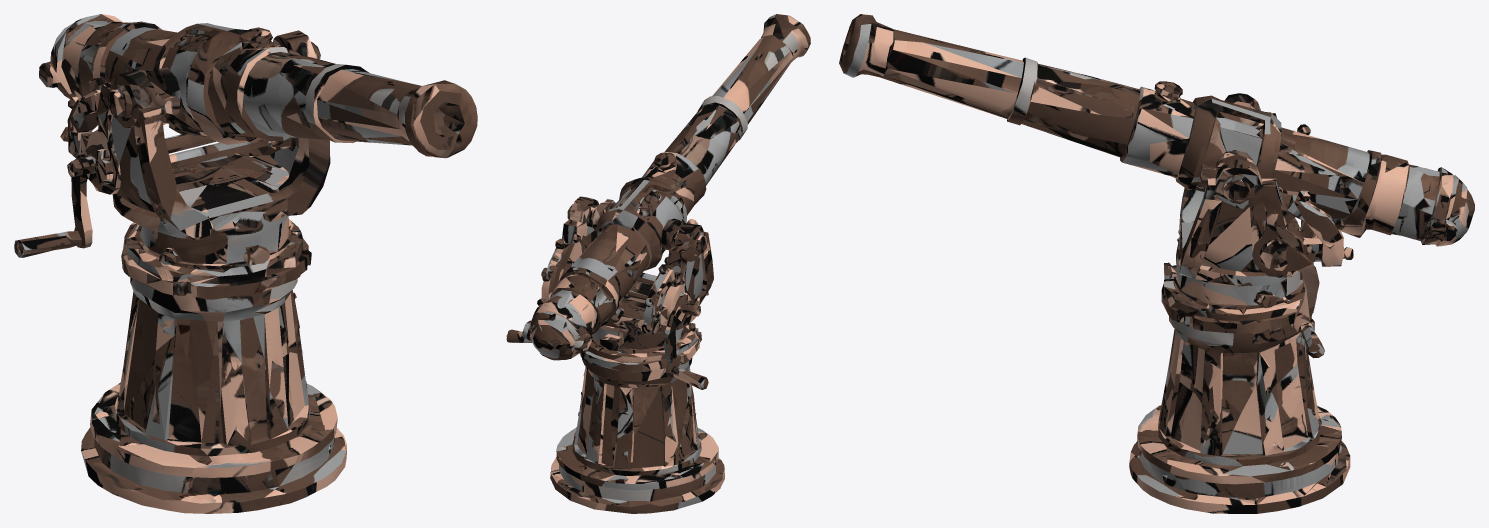
Rendered from Cannon.fbx.
The picture shows the model from 3 angles, left to right: view 1: azimuth 30°, elevation 25°; view 2: azimuth 150°, elevation 25°; view 3: azimuth 270°, elevation 25°; orthographic projection. The views are drawn at different scales.
Visible parts, largest first — view 1: Prop; view 2: Prop; view 3: Prop.
Part boxes in pixels (x1,y1,x2,y2): Prop: (14, 14, 477, 513); Prop: (506, 14, 810, 513); Prop: (839, 14, 1474, 513).
Size of the model in its own units: 1.57 by 2.67 by 3.4.
